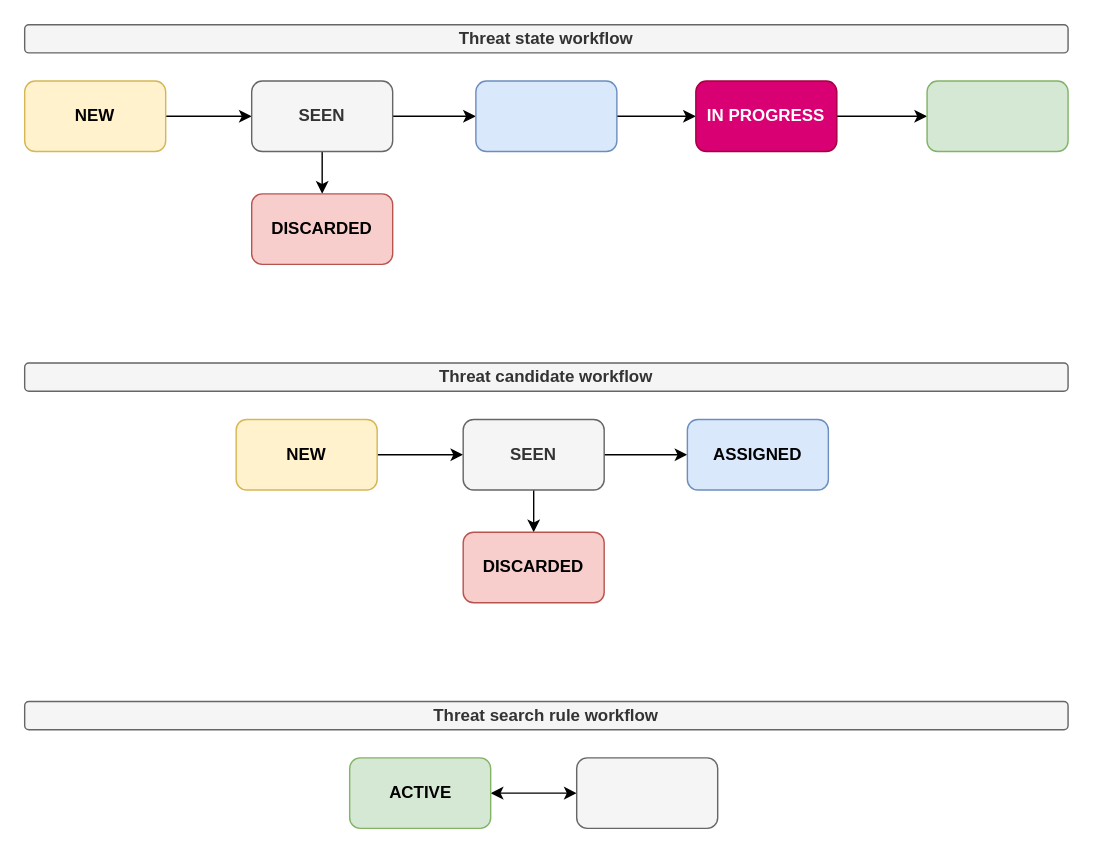
The diagram is 1093 pixels wide and 853 high, and some of its shapes have lost their labels. The shapes that lost their labels are listed below. From the top down, each one's box as (x1, y1, x2, y2) in pixels, then its label:
(474, 80, 617, 152): PROMOTED
(926, 80, 1068, 152): COMPLETED
(575, 756, 718, 828): DISABLED
